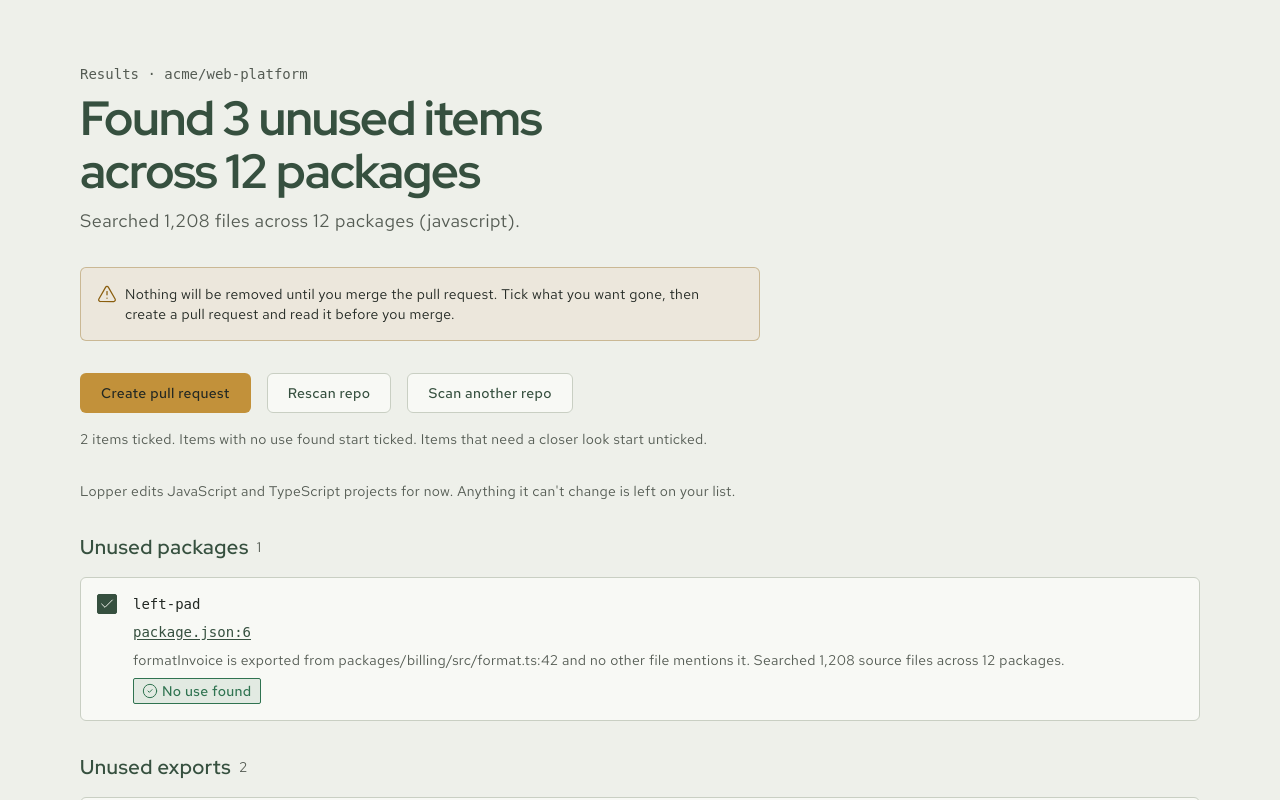
Test case: creating a pull request › explains a refusal and lists what Lopper couldn't change, and lets you try again
The width and height of the screenshot is (1280, 800).
Expected: the heading "Found 3 unused items across 12 packages" is shown, [80,86,542,203]
Step 1. Click the button "Create pull request" → (165, 393), box [80,373,251,413]
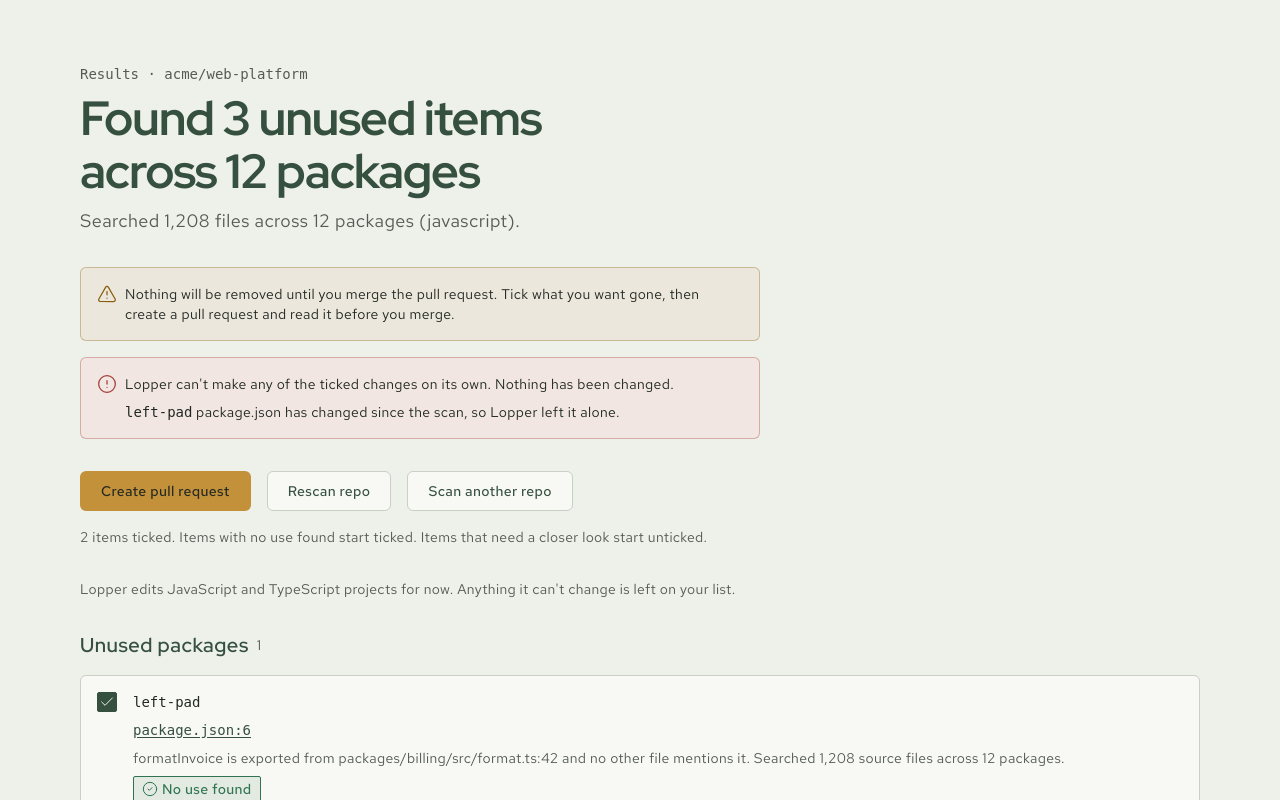
Expected: the button "Create pull request" is enabled, [80,471,251,511]
Expected: the text "package.json has changed since the scan" is shown, [196,403,620,421]
